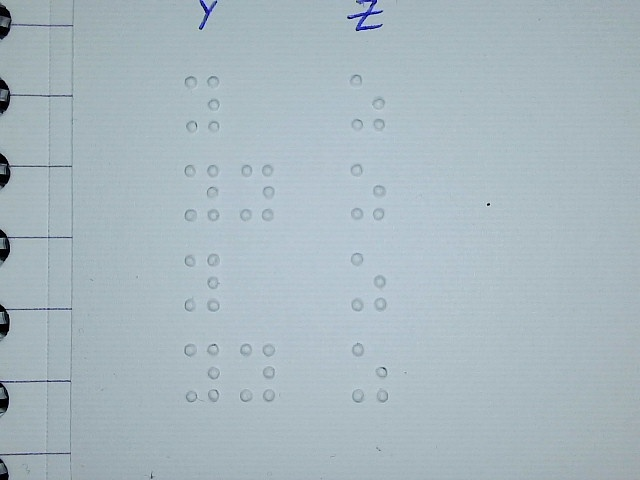Y: (239, 341, 277, 402), (183, 74, 221, 133), (182, 162, 220, 221), (238, 162, 276, 221), (183, 252, 221, 311)
Z: (350, 341, 388, 403), (349, 72, 387, 131), (349, 161, 387, 220), (350, 251, 388, 310)
